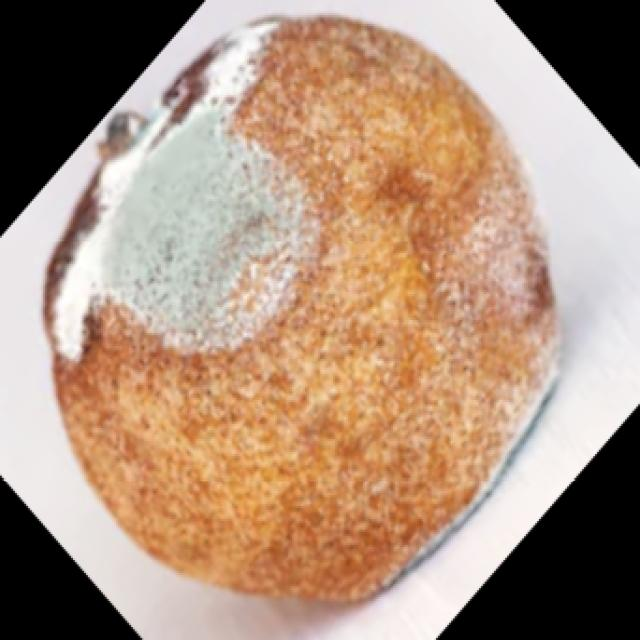sangat_busuk: (40, 20, 560, 602)
